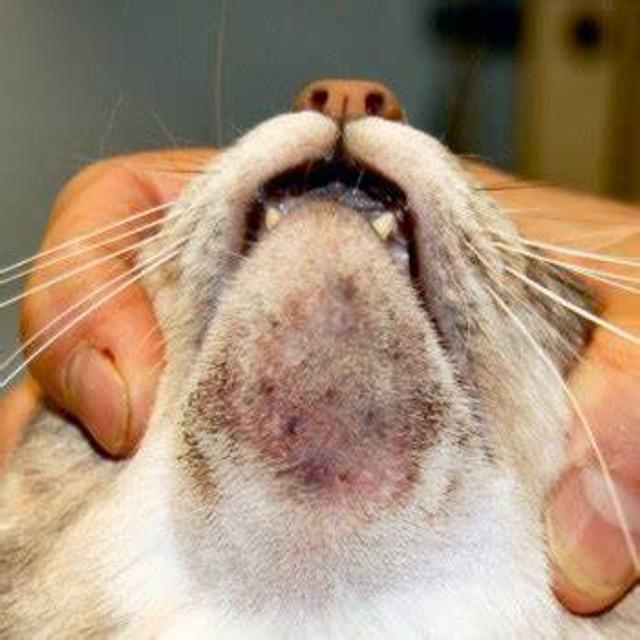acne: (199, 278, 453, 507)
